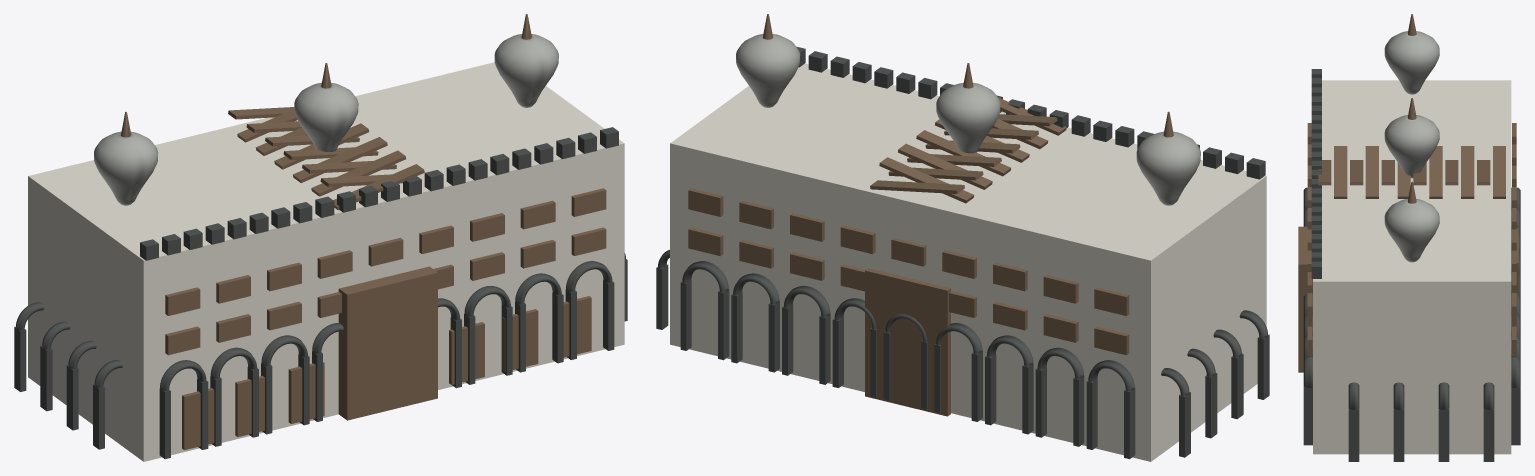
File: alkaff-arcade.glb
3 renders of one model, left to right at view 1: azimuth 30°, elevation 25°; view 2: azimuth 150°, elevation 25°; view 3: azimuth 270°, elevation 25°, orthographic. The views are drawn at different scales.
Visible parts, largest first — view 1: arcade-block/form, central-passage/form, onion-domes/dome-2, onion-domes/dome-0, onion-domes/dome-1, shop-bays/shop-1, shop-bays/shop-3, shop-bays/shop-7, shop-bays/shop-2, shop-bays/shop-8, shop-bays/shop-6, central-glass-roof/roof-pane-7 (+27 smaller); view 2: arcade-block/form, rear-arcade-elevation/rear-passage-portal, onion-domes/dome-0, onion-domes/dome-2, onion-domes/dome-1, central-glass-roof/roof-pane-0, central-glass-roof/roof-pane-3, central-glass-roof/roof-pane-1, central-glass-roof/roof-pane-5, rear-arcade-elevation/rear-arch-2-left, rear-arcade-elevation/rear-arch-7-left, rear-arcade-elevation/rear-arch-0-right (+36 smaller); view 3: arcade-block/form, onion-domes/dome-2, onion-domes/dome-0, onion-domes/dome-1, central-passage/form, central-glass-roof/roof-pane-10, central-glass-roof/roof-pane-2, central-glass-roof/roof-pane-8, central-glass-roof/roof-pane-4, central-glass-roof/roof-pane-0, side-gallery-arches/right-0-right, side-gallery-arches/right-1-right (+16 smaller).
Boxes of the visible parts, bbox=[...] form: arcade-block/form: bbox=[28, 62, 624, 461]; central-passage/form: bbox=[338, 266, 437, 420]; onion-domes/dome-2: bbox=[494, 34, 558, 107]; onion-domes/dome-0: bbox=[94, 131, 158, 205]; onion-domes/dome-1: bbox=[294, 82, 358, 151]; shop-bays/shop-1: bbox=[182, 388, 214, 450]; shop-bays/shop-3: bbox=[288, 362, 324, 423]; shop-bays/shop-7: bbox=[502, 309, 538, 371]; shop-bays/shop-2: bbox=[235, 375, 264, 436]; shop-bays/shop-8: bbox=[563, 296, 591, 357]; shop-bays/shop-6: bbox=[449, 322, 484, 384]; central-glass-roof/roof-pane-7: bbox=[293, 137, 387, 182]; arcade-block/form: bbox=[670, 63, 1266, 461]; rear-arcade-elevation/rear-passage-portal: bbox=[865, 268, 950, 416]; onion-domes/dome-0: bbox=[1136, 131, 1200, 205]; onion-domes/dome-2: bbox=[736, 34, 800, 107]; onion-domes/dome-1: bbox=[936, 82, 1000, 153]; central-glass-roof/roof-pane-0: bbox=[870, 180, 964, 193]; central-glass-roof/roof-pane-3: bbox=[898, 143, 992, 189]; central-glass-roof/roof-pane-1: bbox=[879, 157, 973, 203]; central-glass-roof/roof-pane-5: bbox=[916, 130, 1010, 176]; rear-arcade-elevation/rear-arch-2-left: bbox=[1022, 363, 1033, 434]; rear-arcade-elevation/rear-arch-7-left: bbox=[768, 301, 779, 372]; rear-arcade-elevation/rear-arch-0-right: bbox=[1086, 379, 1097, 449]; arcade-block/form: bbox=[1313, 80, 1511, 454]; onion-domes/dome-2: bbox=[1384, 199, 1439, 262]; onion-domes/dome-0: bbox=[1384, 31, 1439, 94]; onion-domes/dome-1: bbox=[1384, 115, 1439, 178]; central-passage/form: bbox=[1298, 226, 1312, 372]; central-glass-roof/roof-pane-10: bbox=[1334, 146, 1347, 198]; central-glass-roof/roof-pane-2: bbox=[1461, 146, 1474, 198]; central-glass-roof/roof-pane-8: bbox=[1365, 146, 1378, 198]; central-glass-roof/roof-pane-4: bbox=[1429, 146, 1442, 198]; central-glass-roof/roof-pane-0: bbox=[1493, 146, 1505, 198]; side-gallery-arches/right-0-right: bbox=[1348, 409, 1359, 461]; side-gallery-arches/right-1-right: bbox=[1393, 409, 1404, 461].
Bounding box in the file's own units: 19.81 × 10.66 × 8.4.
